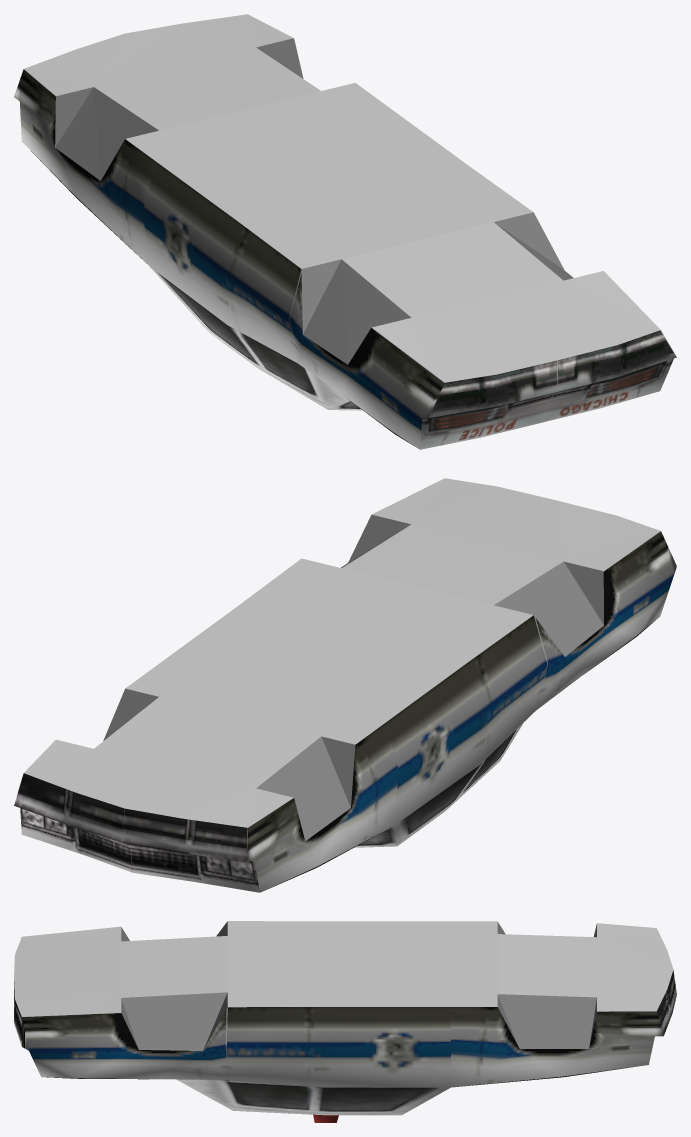
File: CHICAGO_model0_clean.obj
3 renders of one model, top to bottom at view 1: azimuth 30°, elevation 25°; view 2: azimuth 150°, elevation 25°; view 3: azimuth 270°, elevation 25°, orthographic. The views are drawn at different scales.
Visible parts, largest first — view 1: CHICAGO_model0_clean; view 2: CHICAGO_model0_clean; view 3: CHICAGO_model0_clean.
Boxes of the visible parts, x1=… form: CHICAGO_model0_clean: x1=14, y1=14, x2=676, y2=449; CHICAGO_model0_clean: x1=14, y1=478, x2=676, y2=892; CHICAGO_model0_clean: x1=14, y1=921, x2=676, y2=1122.
Bounding box in the file's own units: 264 × 176 × 754.
